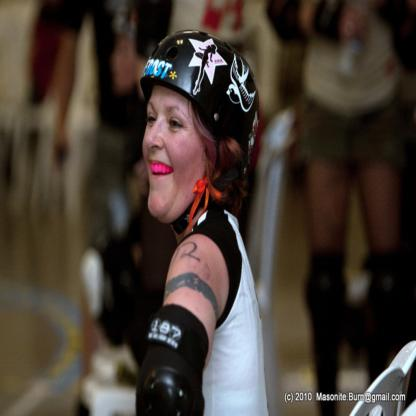Helmet: (134, 23, 259, 224)
